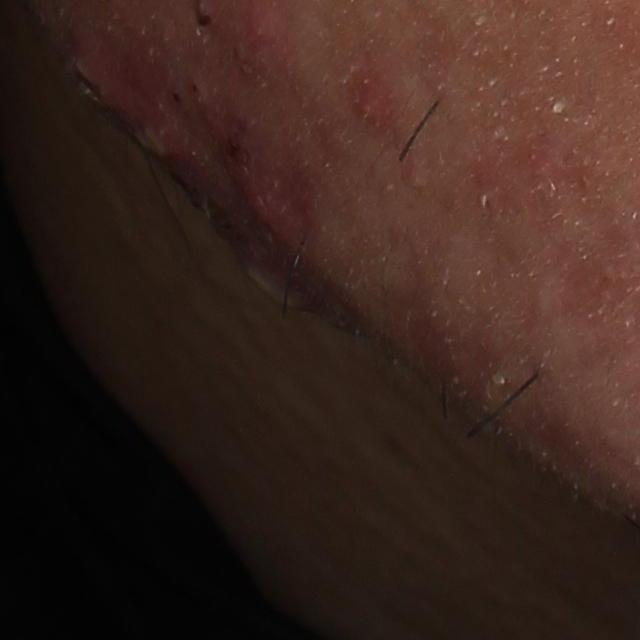comedo: (194, 2, 222, 29)
nodule: (66, 23, 195, 178)
papule: (229, 126, 300, 260), (347, 73, 391, 137)
